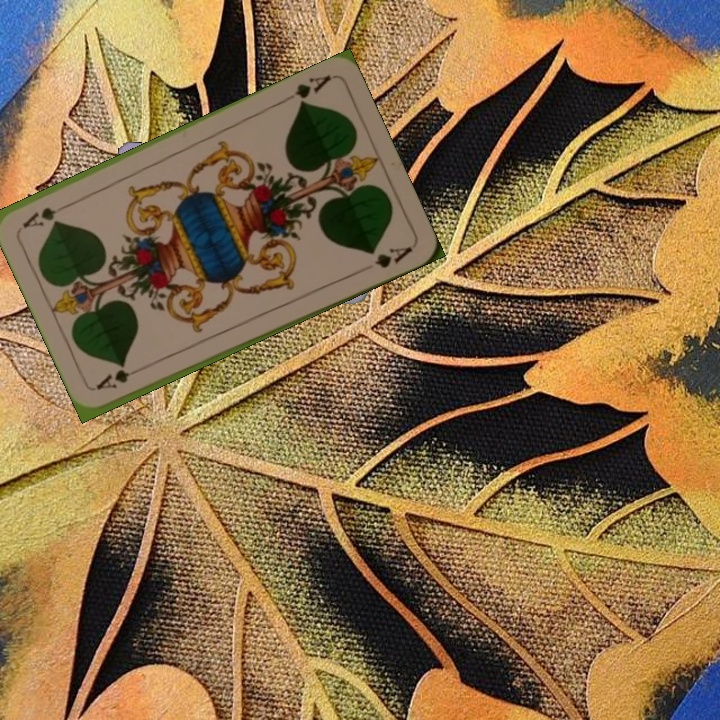GA: (279, 70, 335, 109), (92, 361, 149, 393)
